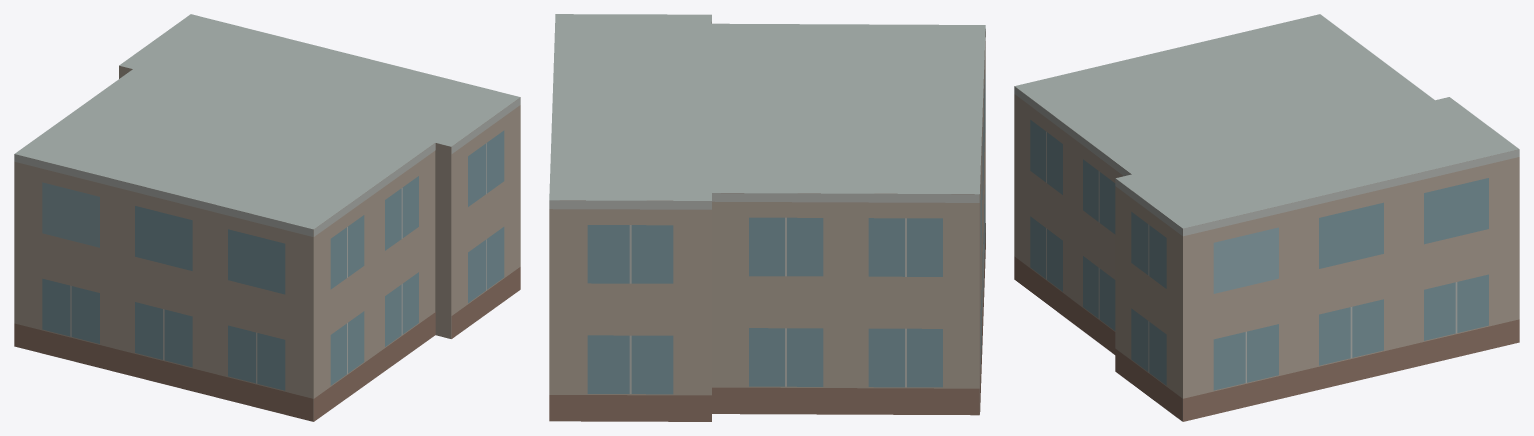
Rendered from survey-upis-32704882.glb.
The picture shows the model from 3 angles, left to right: view 1: azimuth 30°, elevation 25°; view 2: azimuth 150°, elevation 25°; view 3: azimuth 270°, elevation 25°; orthographic projection. The views are drawn at different scales.
Parts seen in each view (by area): view 1: survey-upis-32704882.tmp; view 2: survey-upis-32704882.tmp; view 3: survey-upis-32704882.tmp.
Part boxes in pixels (x1,y1,x2,y2): survey-upis-32704882.tmp: (14, 14, 520, 421); survey-upis-32704882.tmp: (549, 14, 985, 421); survey-upis-32704882.tmp: (1014, 14, 1519, 421).
Size of the model in its own units: 14.54 by 6.1 by 14.46.
